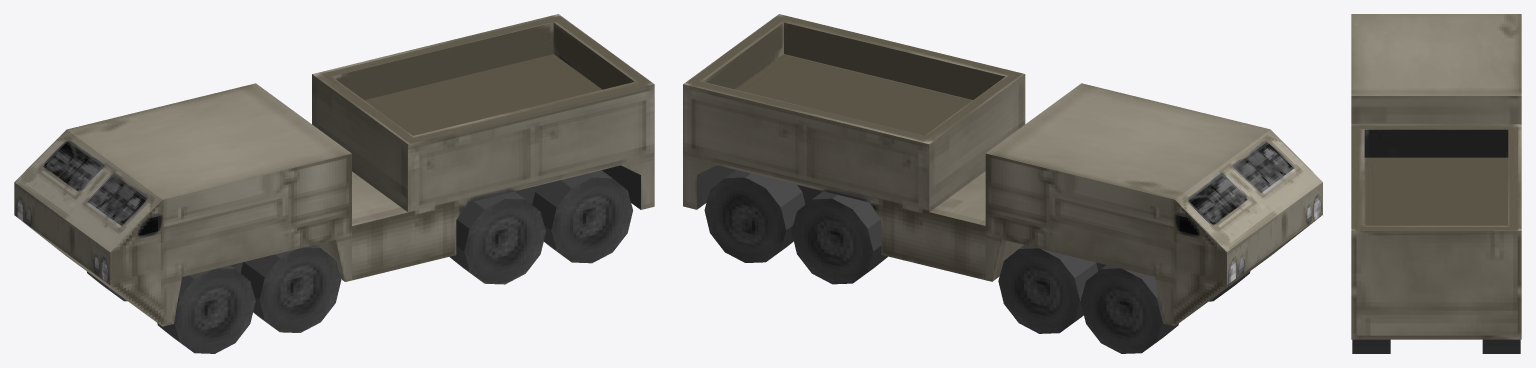
Rendered from Iraqi Truck.fbx.
3 renders of one model, left to right at view 1: azimuth 30°, elevation 25°; view 2: azimuth 150°, elevation 25°; view 3: azimuth 270°, elevation 25°, orthographic. The views are drawn at different scales.
Parts seen in each view (by area): view 1: group11_pasted__group9_pasted__pasted__group7_pasted__pasted; view 2: group11_pasted__group9_pasted__pasted__group7_pasted__pasted; view 3: group11_pasted__group9_pasted__pasted__group7_pasted__pasted.
Boxes of the visible parts, x1=… form: group11_pasted__group9_pasted__pasted__group7_pasted__pasted: x1=14, y1=14, x2=654, y2=353; group11_pasted__group9_pasted__pasted__group7_pasted__pasted: x1=683, y1=14, x2=1322, y2=353; group11_pasted__group9_pasted__pasted__group7_pasted__pasted: x1=1351, y1=14, x2=1521, y2=353.
Size of the model in its own units: 3.71 by 1.1 by 1.13.
